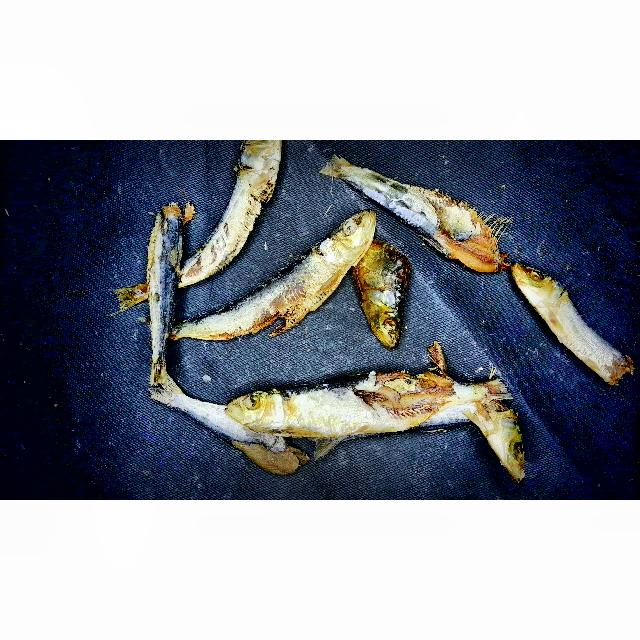Rejected_Body: (372, 166, 512, 278), (199, 257, 340, 352), (282, 369, 467, 435), (188, 167, 276, 286), (188, 401, 312, 476), (135, 200, 193, 360), (555, 291, 632, 399)
Rejected_Head: (355, 243, 411, 349), (475, 398, 534, 483), (320, 207, 381, 266), (223, 385, 297, 431), (511, 258, 564, 317)
